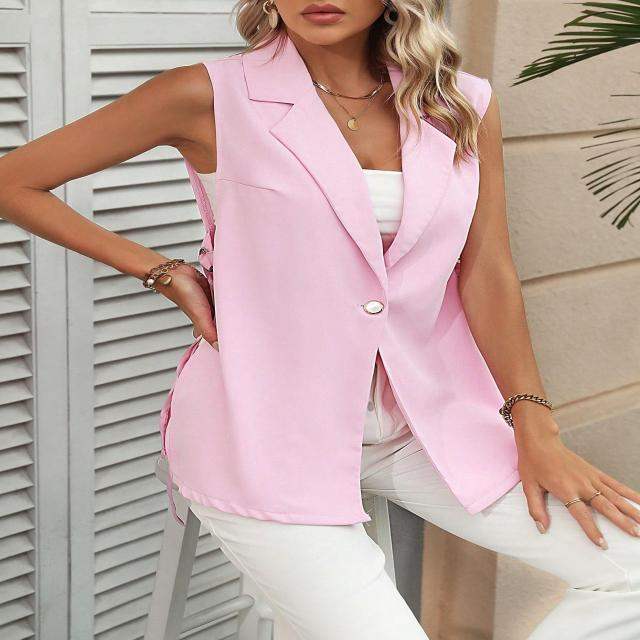Earring: (256, 0, 284, 35), (382, 6, 404, 26)
